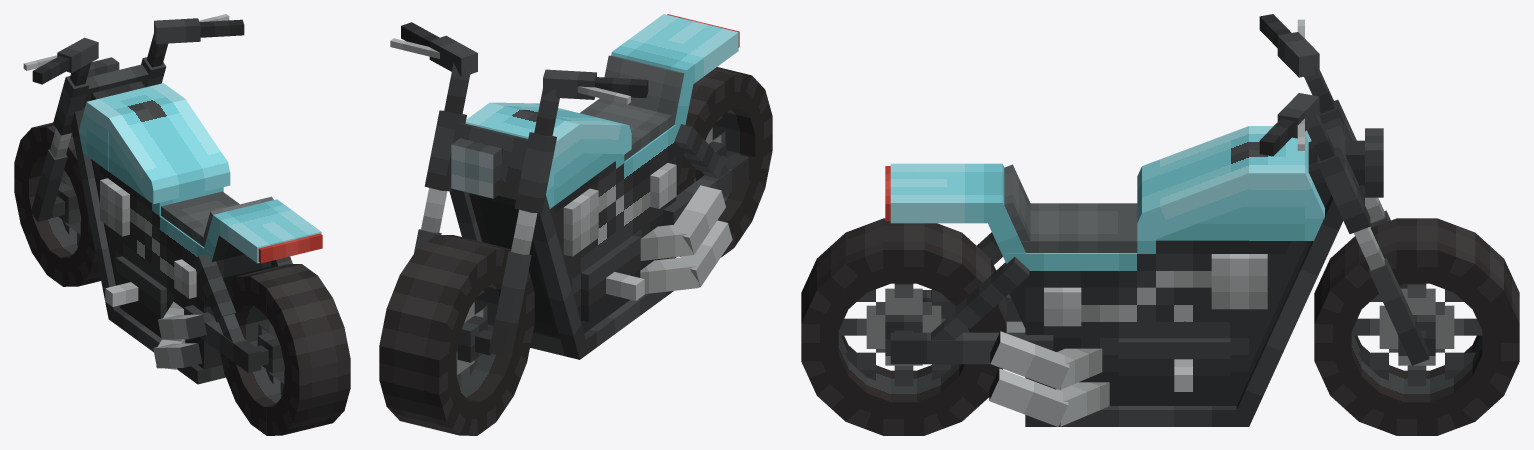
3 views of the same model, side by side, from view 1: azimuth 30°, elevation 25°; view 2: azimuth 150°, elevation 25°; view 3: azimuth 270°, elevation 25° (orthographic). The views are drawn at different scales.
Visible parts, largest first — view 1: d267be6b-ba94-3407-1c89-5b0c970a3065, 288a47e0-7e83-1622-70b5-c797cb19fedd, c3097ba9-905a-741b-8f58-9122f79ceb59, 910b2f90-02c3-8346-e576-eae51cd7bff7, eae76488-26ce-2294-b7ae-856771a2d68d, 5bc69f33-534a-3037-1d48-98e08733bff8, 299c84c6-2917-4455-5e91-84e1c11f2783, a79b8025-30e8-f755-7136-953629800696, 5eaf1db7-1837-d2a7-f8c2-1c48b8b5135a, 7ad3e296-01b1-08f9-b89a-822fba2a21b5, d65fe0d1-9e47-4ff1-10ce-1fcef8ccb966, f438cd7b-9563-e803-0820-34542080b6a0 (+53 smaller); view 2: c3097ba9-905a-741b-8f58-9122f79ceb59, 288a47e0-7e83-1622-70b5-c797cb19fedd, 5bc69f33-534a-3037-1d48-98e08733bff8, 910b2f90-02c3-8346-e576-eae51cd7bff7, 7a0f29ff-1ff6-4ddb-8b1e-631a8af3b6d5, eae76488-26ce-2294-b7ae-856771a2d68d, d1fb8e53-5ab5-c7f1-8872-af46242d0440, 8e820192-8b32-459d-6db0-78c0931d7c1b, 414adc8c-9e13-7599-3c7c-2230b52e2c0f, 9732f688-6855-f3cf-fa93-fc8d21101df1, d65fe0d1-9e47-4ff1-10ce-1fcef8ccb966, 3597fa01-03ba-01ad-7d17-adaaf529a779 (+52 smaller); view 3: 288a47e0-7e83-1622-70b5-c797cb19fedd, d267be6b-ba94-3407-1c89-5b0c970a3065, eae76488-26ce-2294-b7ae-856771a2d68d, c3097ba9-905a-741b-8f58-9122f79ceb59, 052d331c-a40b-26f3-f49b-770fbec7e454, 910b2f90-02c3-8346-e576-eae51cd7bff7, 7ad3e296-01b1-08f9-b89a-822fba2a21b5, 250d9c9c-60ef-531a-c852-c82a02a7d63b, 95d456c6-1836-5c03-7c44-f176663680db, 98589484-63b5-f007-b40a-c65ffe105e2a, a92ea831-fa78-34a7-f8e3-2a8edf71d51e, 664e3b1d-4b31-92ca-352d-4e1131d11d59 (+58 smaller).
Boxes of the visible parts, left/top/right/bottom form: d267be6b-ba94-3407-1c89-5b0c970a3065: left=108, top=99, right=227, bottom=197; 288a47e0-7e83-1622-70b5-c797cb19fedd: left=115, top=221, right=222, bottom=369; c3097ba9-905a-741b-8f58-9122f79ceb59: left=213, top=199, right=321, bottom=263; 910b2f90-02c3-8346-e576-eae51cd7bff7: left=86, top=83, right=185, bottom=171; eae76488-26ce-2294-b7ae-856771a2d68d: left=100, top=173, right=271, bottom=277; 5bc69f33-534a-3037-1d48-98e08733bff8: left=71, top=107, right=119, bottom=319; 299c84c6-2917-4455-5e91-84e1c11f2783: left=271, top=298, right=344, bottom=350; a79b8025-30e8-f755-7136-953629800696: left=281, top=327, right=350, bottom=371; 5eaf1db7-1837-d2a7-f8c2-1c48b8b5135a: left=284, top=359, right=350, bottom=400; 7ad3e296-01b1-08f9-b89a-822fba2a21b5: left=161, top=191, right=239, bottom=246; d65fe0d1-9e47-4ff1-10ce-1fcef8ccb966: left=116, top=256, right=166, bottom=329; f438cd7b-9563-e803-0820-34542080b6a0: left=184, top=305, right=261, bottom=372; c3097ba9-905a-741b-8f58-9122f79ceb59: left=612, top=14, right=738, bottom=88; 288a47e0-7e83-1622-70b5-c797cb19fedd: left=533, top=157, right=676, bottom=339; 5bc69f33-534a-3037-1d48-98e08733bff8: left=532, top=195, right=587, bottom=359; 910b2f90-02c3-8346-e576-eae51cd7bff7: left=466, top=102, right=579, bottom=205; 7a0f29ff-1ff6-4ddb-8b1e-631a8af3b6d5: left=469, top=195, right=572, bottom=337; eae76488-26ce-2294-b7ae-856771a2d68d: left=555, top=119, right=684, bottom=241; d1fb8e53-5ab5-c7f1-8872-af46242d0440: left=386, top=274, right=471, bottom=336; 8e820192-8b32-459d-6db0-78c0931d7c1b: left=379, top=309, right=460, bottom=360; 414adc8c-9e13-7599-3c7c-2230b52e2c0f: left=379, top=346, right=456, bottom=394; 9732f688-6855-f3cf-fa93-fc8d21101df1: left=451, top=138, right=501, bottom=198; d65fe0d1-9e47-4ff1-10ce-1fcef8ccb966: left=581, top=235, right=640, bottom=321; 3597fa01-03ba-01ad-7d17-adaaf529a779: left=489, top=251, right=531, bottom=356; 288a47e0-7e83-1622-70b5-c797cb19fedd: left=1025, top=287, right=1248, bottom=405; d267be6b-ba94-3407-1c89-5b0c970a3065: left=1142, top=126, right=1248, bottom=238; eae76488-26ce-2294-b7ae-856771a2d68d: left=1006, top=253, right=1286, bottom=287; c3097ba9-905a-741b-8f58-9122f79ceb59: left=890, top=163, right=1002, bottom=223; 052d331c-a40b-26f3-f49b-770fbec7e454: left=1118, top=338, right=1230, bottom=392; 910b2f90-02c3-8346-e576-eae51cd7bff7: left=1249, top=126, right=1304, bottom=240; 7ad3e296-01b1-08f9-b89a-822fba2a21b5: left=1020, top=203, right=1137, bottom=252; 250d9c9c-60ef-531a-c852-c82a02a7d63b: left=1232, top=195, right=1343, bottom=426; 95d456c6-1836-5c03-7c44-f176663680db: left=890, top=332, right=1053, bottom=364; 98589484-63b5-f007-b40a-c65ffe105e2a: left=1025, top=406, right=1248, bottom=426; a92ea831-fa78-34a7-f8e3-2a8edf71d51e: left=1351, top=283, right=1482, bottom=386; 664e3b1d-4b31-92ca-352d-4e1131d11d59: left=1211, top=254, right=1267, bottom=309.
Size of the model in its own units: 1.02 by 1.28 by 2.41.
Materials: 1 (1 with a texture image).
